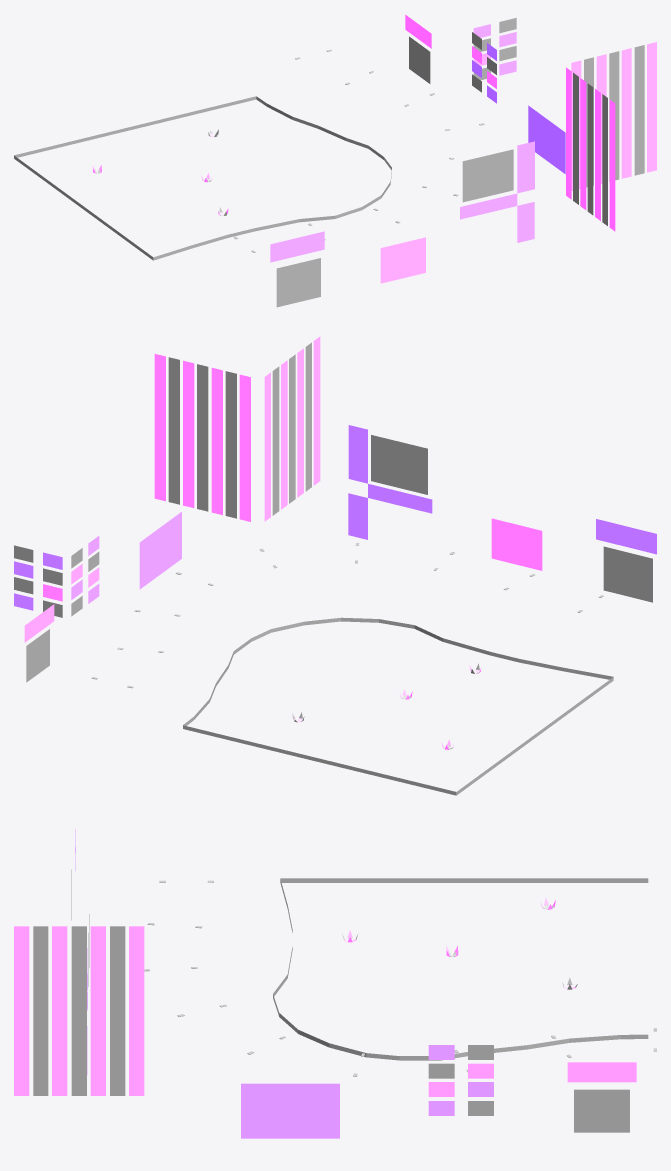
The model's file is R3Light.fbx.
The picture shows the model from 3 angles, top to bottom: view 1: azimuth 30°, elevation 25°; view 2: azimuth 150°, elevation 25°; view 3: azimuth 270°, elevation 25°; orthographic projection. The views are drawn at different scales.
Visible parts, largest first — view 1: Plane.001; view 2: Plane.001; view 3: Plane.001.
Boxes of the visible parts, x1,y1,x2,y2 form: Plane.001: [14, 14, 656, 307]; Plane.001: [14, 336, 656, 795]; Plane.001: [14, 829, 656, 1138].
Bounding box in the file's own units: 14590 × 4383 × 13522.
